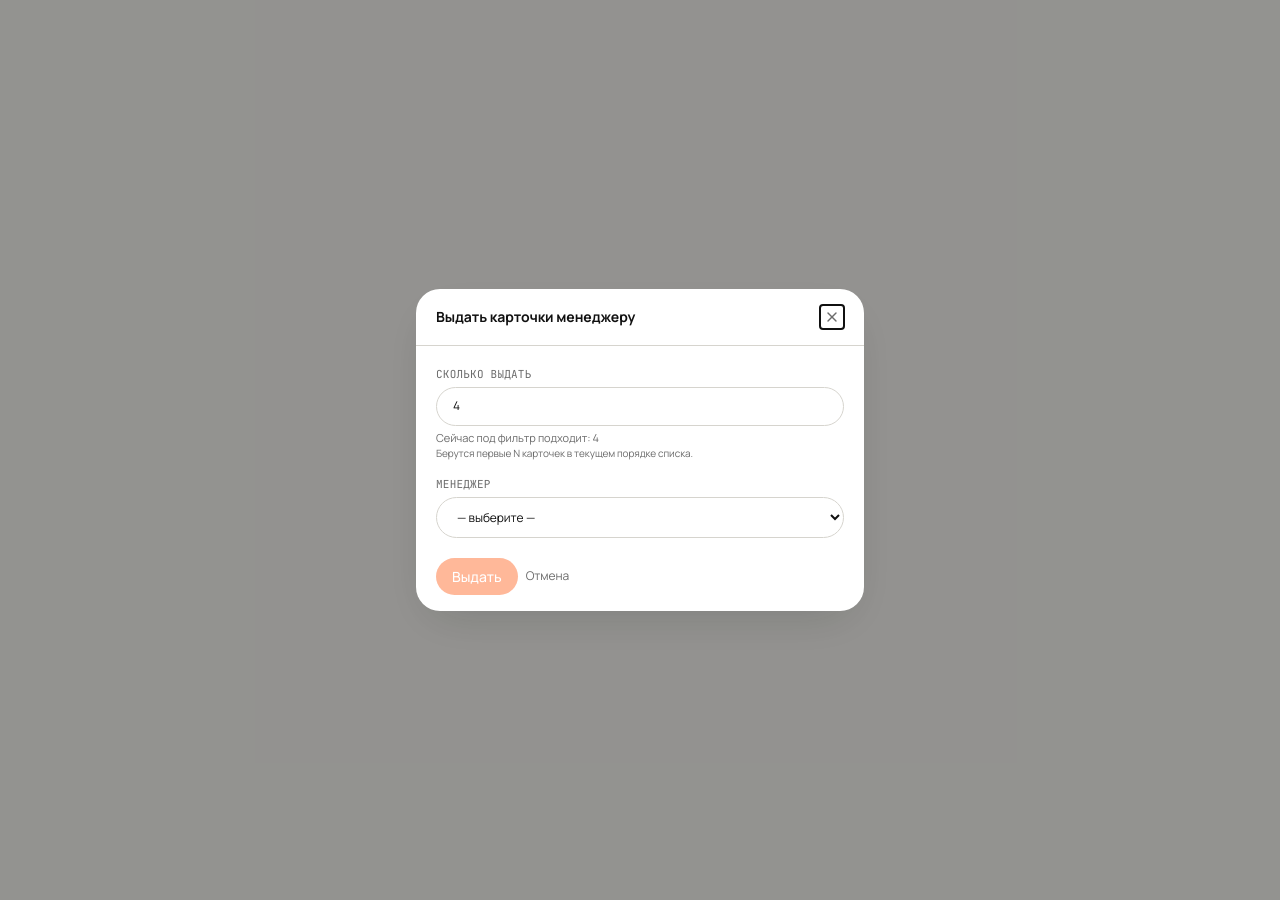
Test case: AssignLeadsModal › режим topN объясняет невалидное количество
Clear the number field labelled "Сколько выдать": (640, 406) [436, 387, 844, 426]
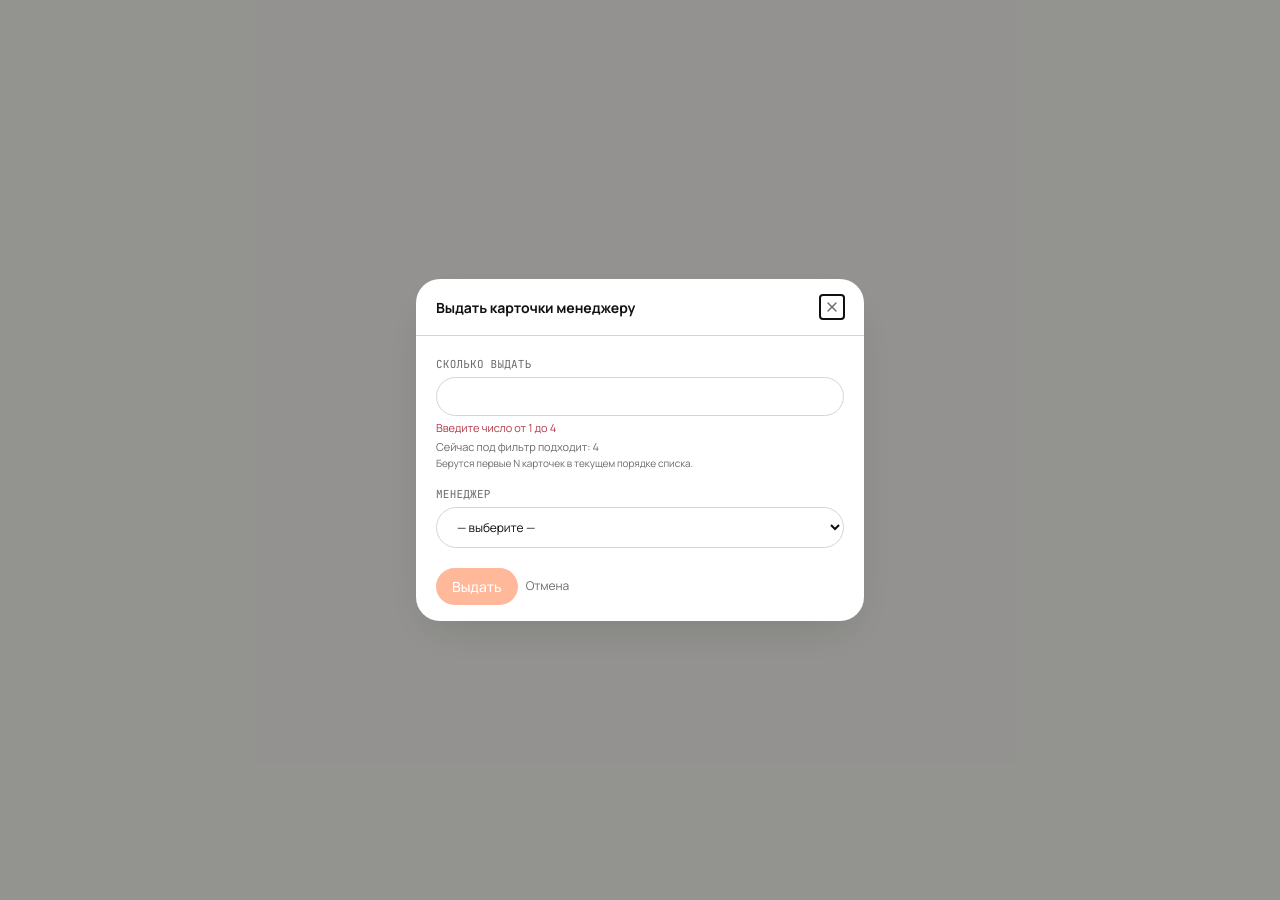
Check: the text "Введите число от 1 до 4" is shown, box [436, 420, 556, 435]
In the number field labelled "Сколько выдать": (640, 397) [436, 377, 844, 416], type "5"
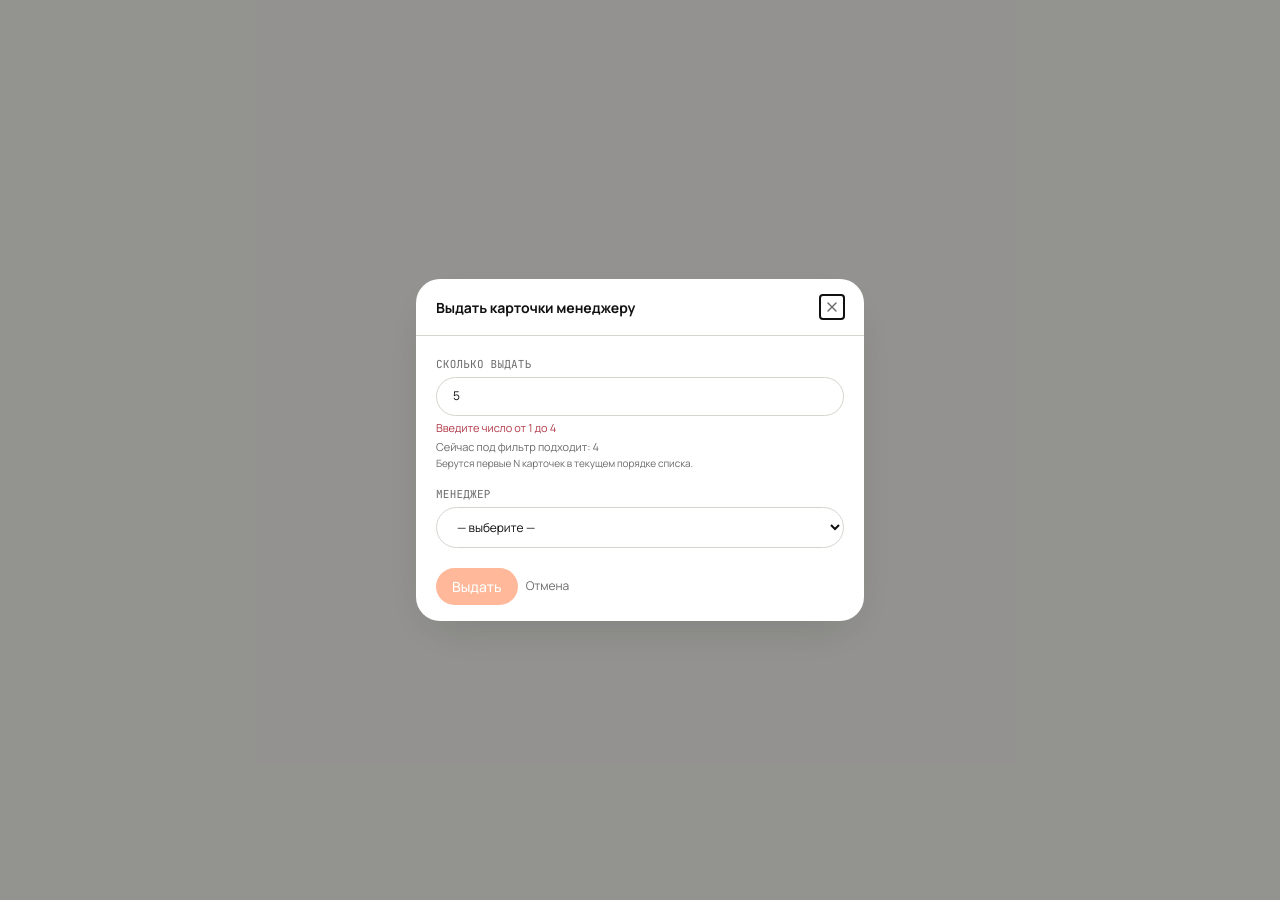
Check: the text "Введите число от 1 до 4" is shown, box [436, 420, 556, 435]
Replace the text in the number field labelled "Сколько выдать" with "2": (640, 397) [436, 377, 844, 416]
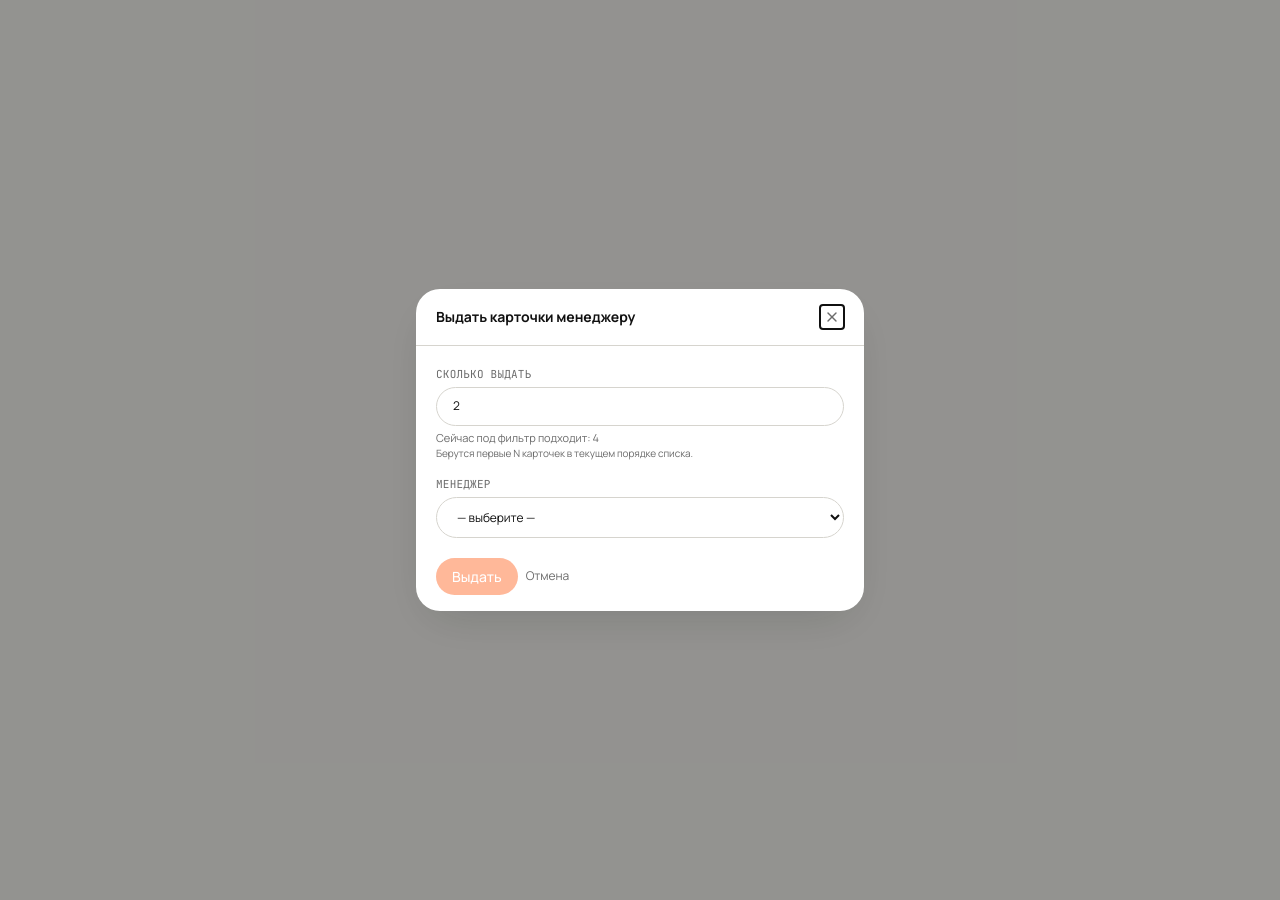
Check: the text "Введите число от 1 до 4" is gone
